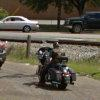Motorcycle: (32, 41, 82, 91)
